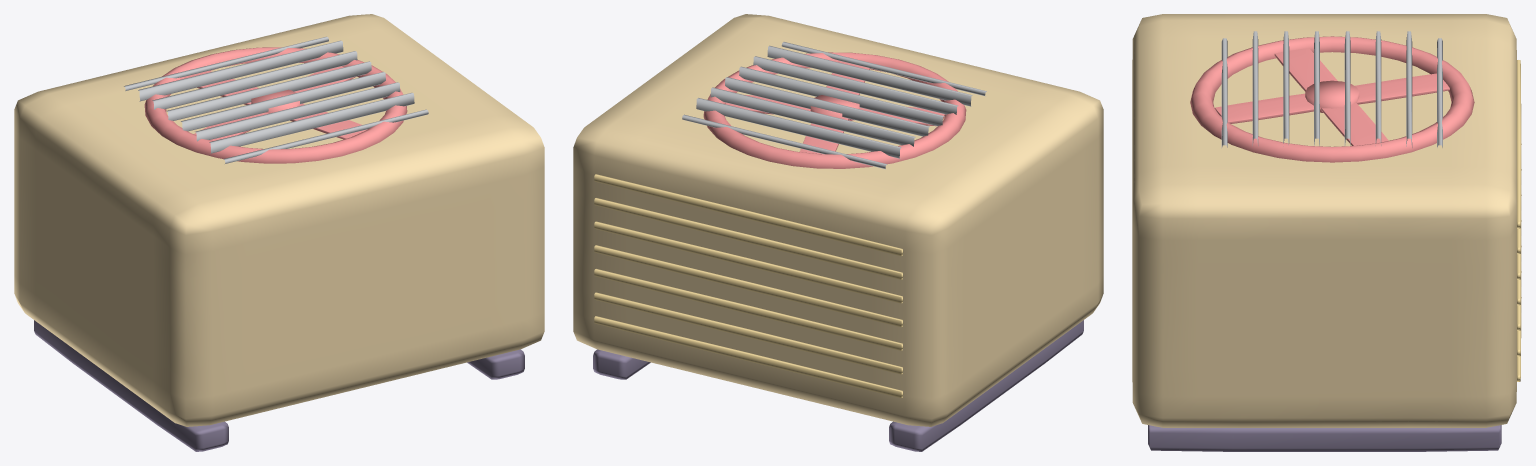
Rendered from EatsaPizzaVent.glb.
3 renders of one model, left to right at view 1: azimuth 30°, elevation 25°; view 2: azimuth 150°, elevation 25°; view 3: azimuth 270°, elevation 25°, orthographic. The views are drawn at different scales.
Visible parts, largest first — view 1: Body, Grille, Fan, Feet; view 2: Body, Slats, Grille, Fan, Feet; view 3: Body, Fan, Feet, Grille, Slats.
Part boxes in pixels (box(x1,y1,x2,y2)): Body: box(14, 14, 544, 426); Grille: box(124, 36, 428, 164); Fan: box(144, 47, 407, 163); Feet: box(34, 320, 524, 451); Body: box(573, 14, 1103, 426); Slats: box(594, 174, 903, 397); Grille: box(682, 42, 986, 169); Fan: box(703, 52, 966, 168); Feet: box(593, 320, 1083, 451); Body: box(1132, 14, 1516, 427); Fan: box(1190, 36, 1474, 162); Feet: box(1148, 425, 1501, 451); Grille: box(1221, 31, 1442, 148); Slats: box(1517, 60, 1521, 381).
Bounding box in the file's own units: 6 × 4.05 × 5.06.
